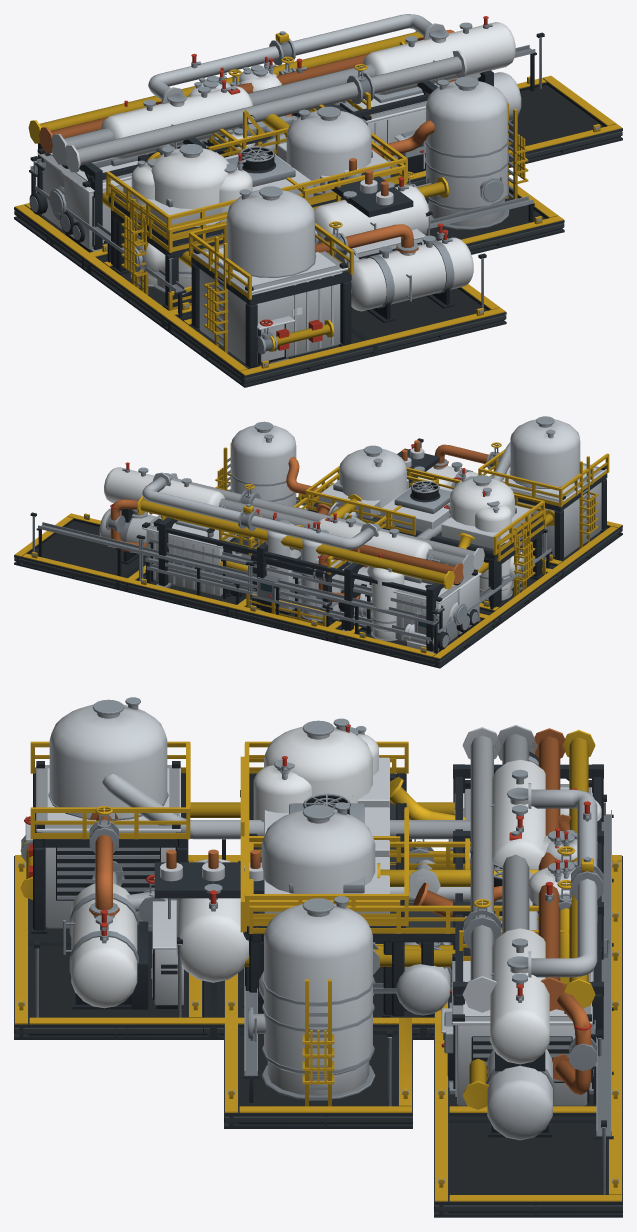
Rendered from pieces.glb.
3 renders of one model, top to bottom at view 1: azimuth 30°, elevation 25°; view 2: azimuth 150°, elevation 25°; view 3: azimuth 270°, elevation 25°, orthographic. The views are drawn at different scales.
Parts seen in each view (by area): view 1: piece_L, piece_I4, piece_I3, piece_Z, piece_J, piece_O, piece_S, piece_T, piece_V; view 2: piece_I4, piece_I3, piece_L, piece_O, piece_S, piece_Z, piece_T, piece_V, piece_J; view 3: piece_I4, piece_L, piece_Z, piece_I3, piece_J, piece_T, piece_O, piece_S, piece_V.
Part boxes in pixels (<box>): piece_L: <box>15,100,506,387</box>; piece_I4: <box>29,14,622,268</box>; piece_I3: <box>14,31,467,270</box>; piece_Z: <box>49,76,564,254</box>; piece_J: <box>173,158,498,371</box>; piece_O: <box>14,120,407,328</box>; piece_S: <box>95,58,438,324</box>; piece_T: <box>29,41,439,267</box>; piece_V: <box>37,56,292,324</box>; piece_I4: <box>14,462,491,666</box>; piece_I3: <box>123,473,496,668</box>; piece_L: <box>342,416,622,666</box>; piece_O: <box>233,466,559,667</box>; piece_S: <box>132,475,554,638</box>; piece_Z: <box>215,421,478,625</box>; piece_T: <box>143,445,494,649</box>; piece_V: <box>233,468,556,649</box>; piece_J: <box>233,438,616,639</box>; piece_I4: <box>434,759,622,1217</box>; piece_L: <box>14,697,622,1039</box>; piece_Z: <box>224,841,622,1128</box>; piece_I3: <box>434,725,622,1116</box>; piece_J: <box>20,761,622,1039</box>; piece_T: <box>225,802,596,1112</box>; piece_O: <box>224,741,622,1039</box>; piece_S: <box>240,718,622,1106</box>; piece_V: <box>229,724,602,1014</box>.
Size of the model in its own units: 3.9 by 1.08 by 2.9.
